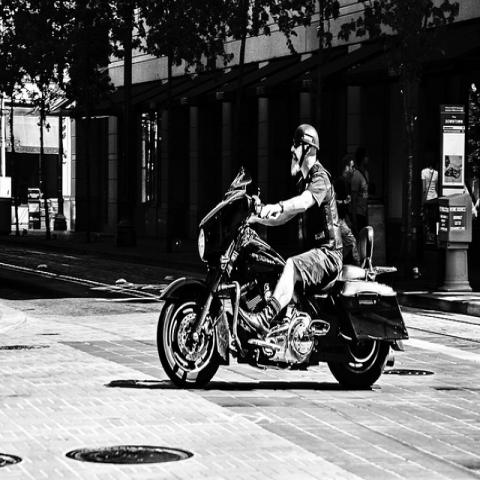motorcycle: (155, 165, 410, 391)
